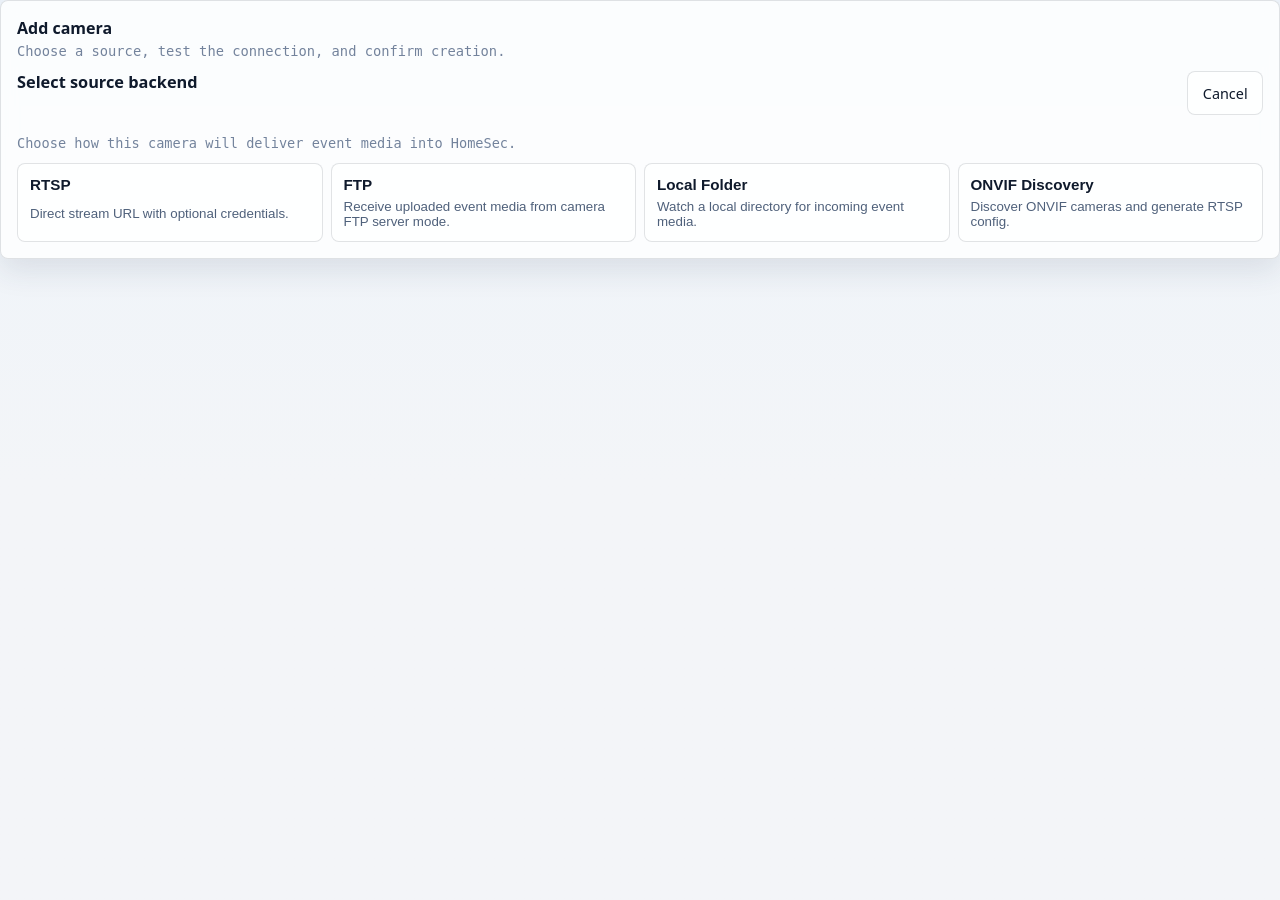
Test case: CameraAddFlow › rejects camera names with spaces or special characters
Click the button "RTSP" at {"x": 50, "y": 184}, box [17,163,322,242]
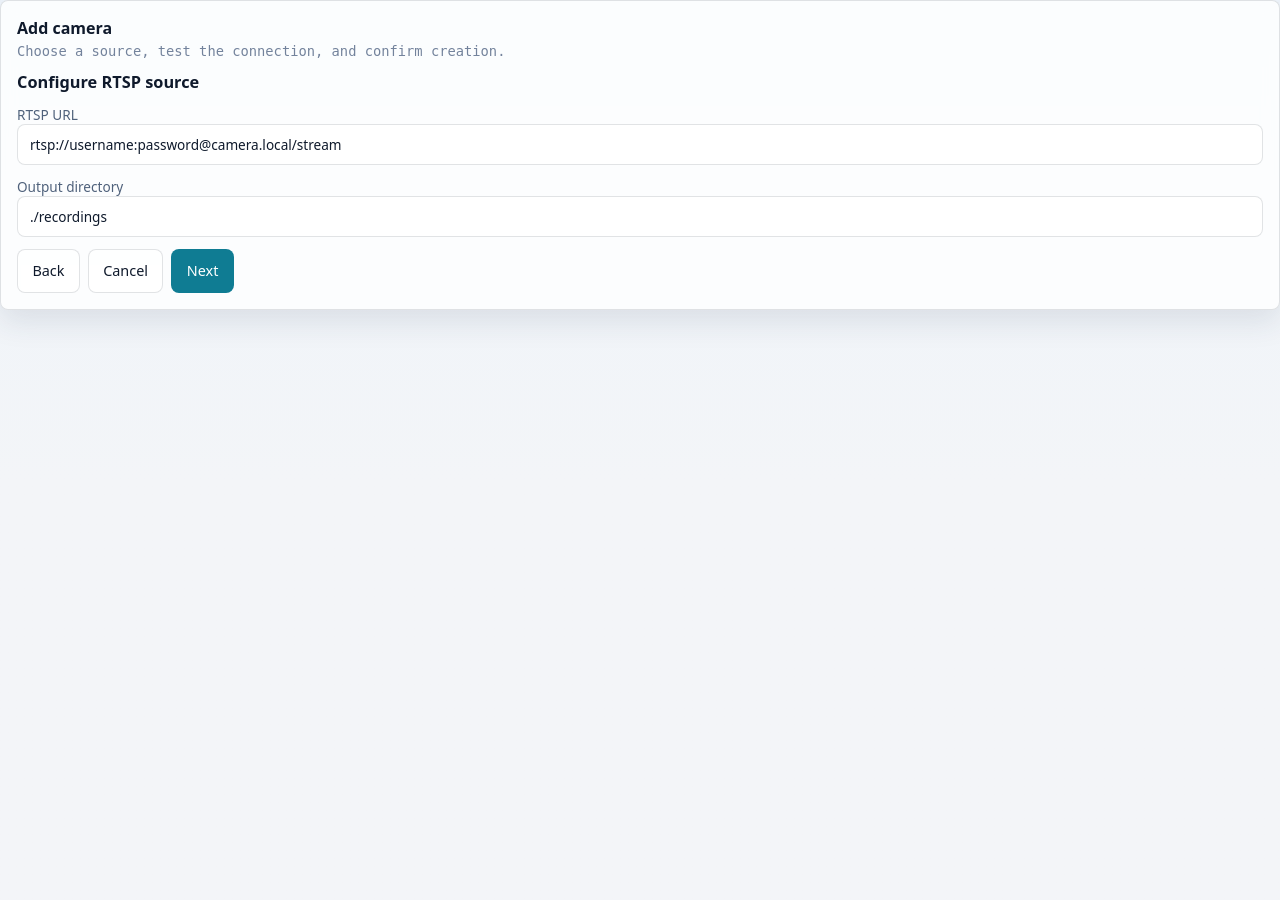
Click the button "Next" at {"x": 203, "y": 271}, box [171,249,234,293]
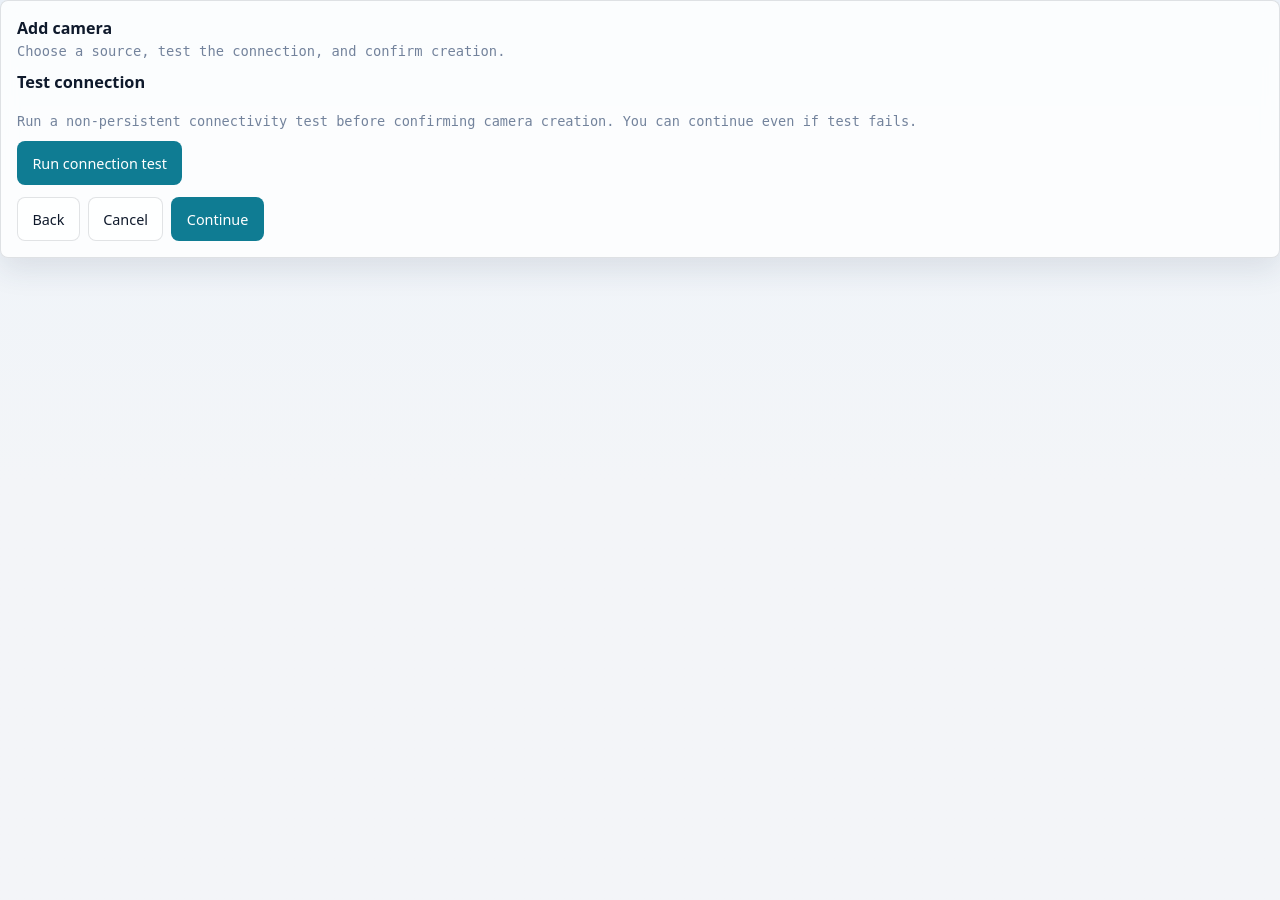
Click the button "Continue" at {"x": 218, "y": 219}, box [171,197,264,241]
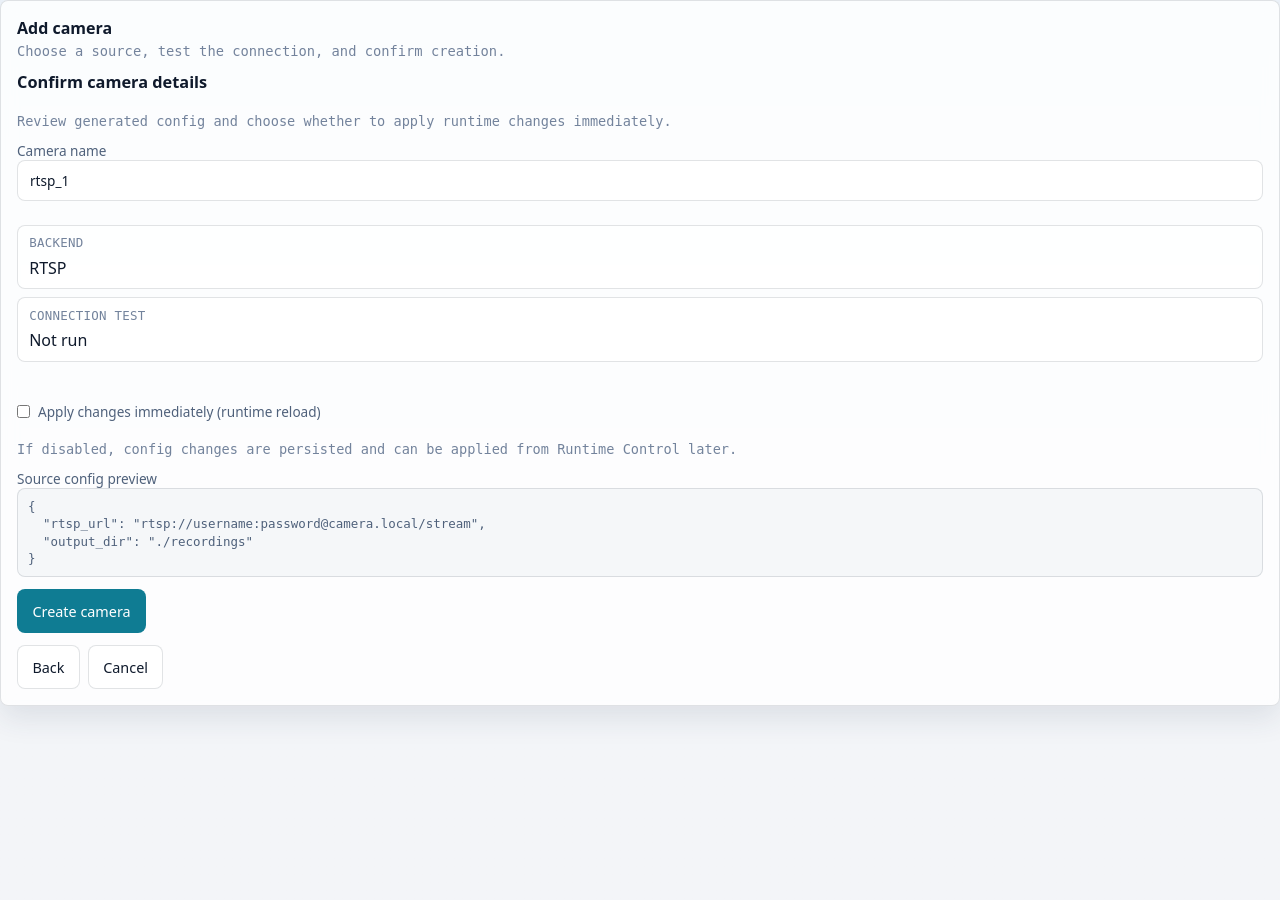
Replace the text in the field labelled "Camera name" with "front door!" at {"x": 640, "y": 180}, box [17,160,1263,201]
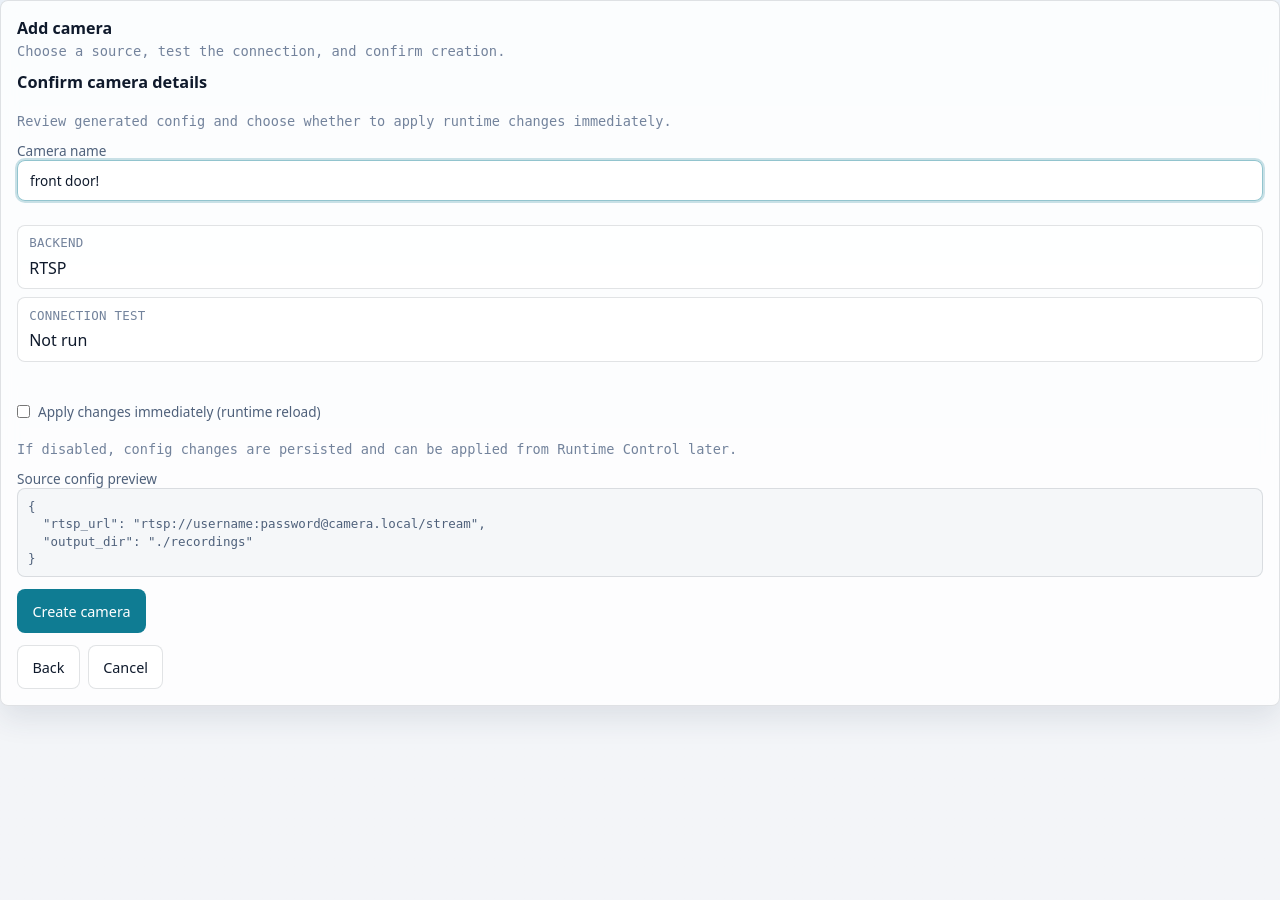
Click the button "Create camera" at {"x": 82, "y": 611}, box [17,589,146,633]
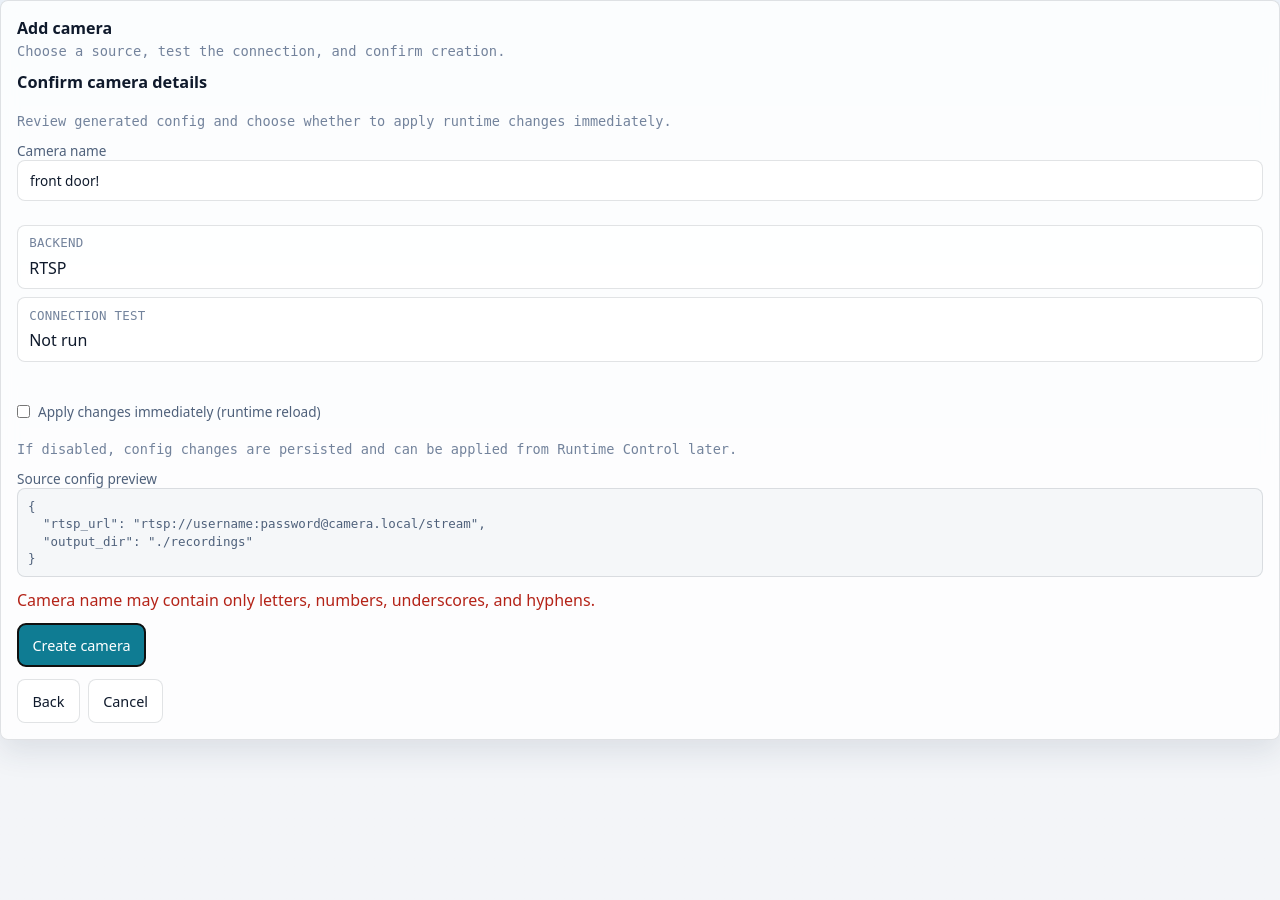
expect the text "Camera name may contain only letters, numbers, underscores, and hyphens." is shown: met, box [17,589,595,611]
